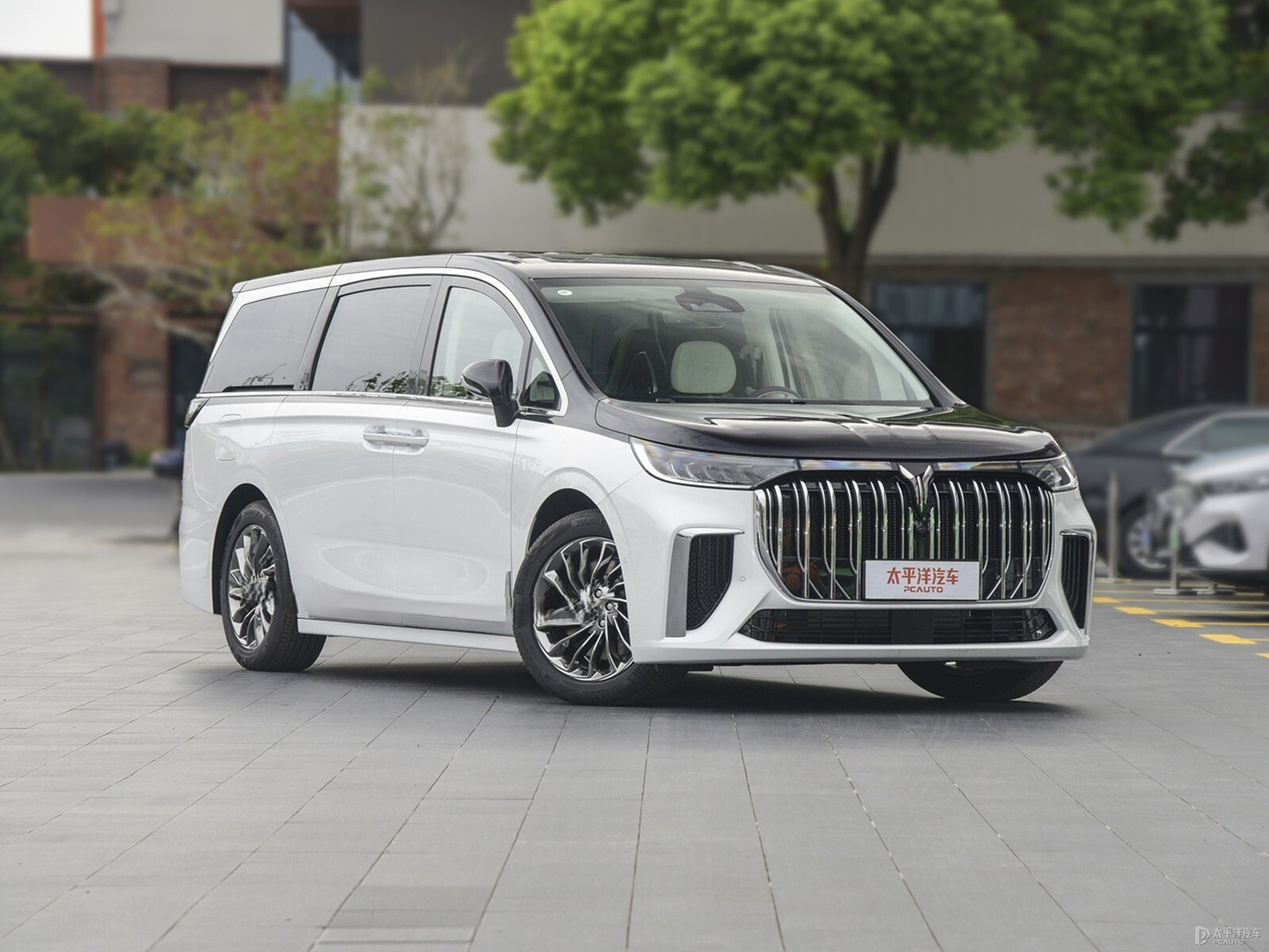VOYAH: (899, 465, 933, 512)
